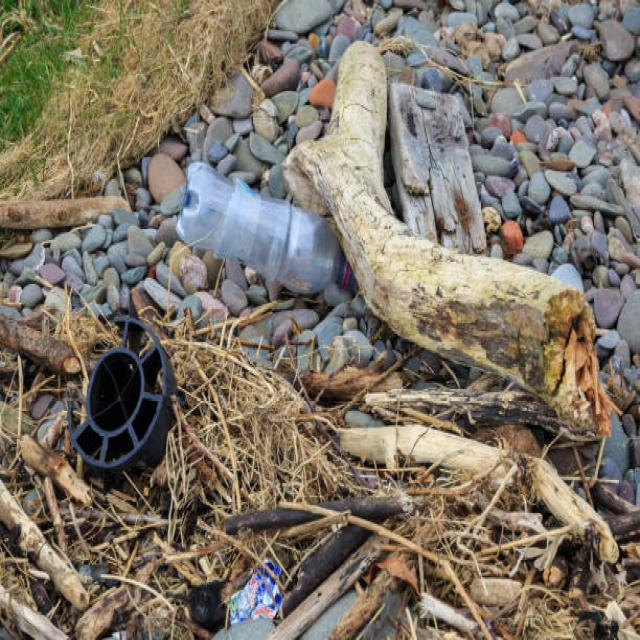plastic: (179, 152, 340, 312)
